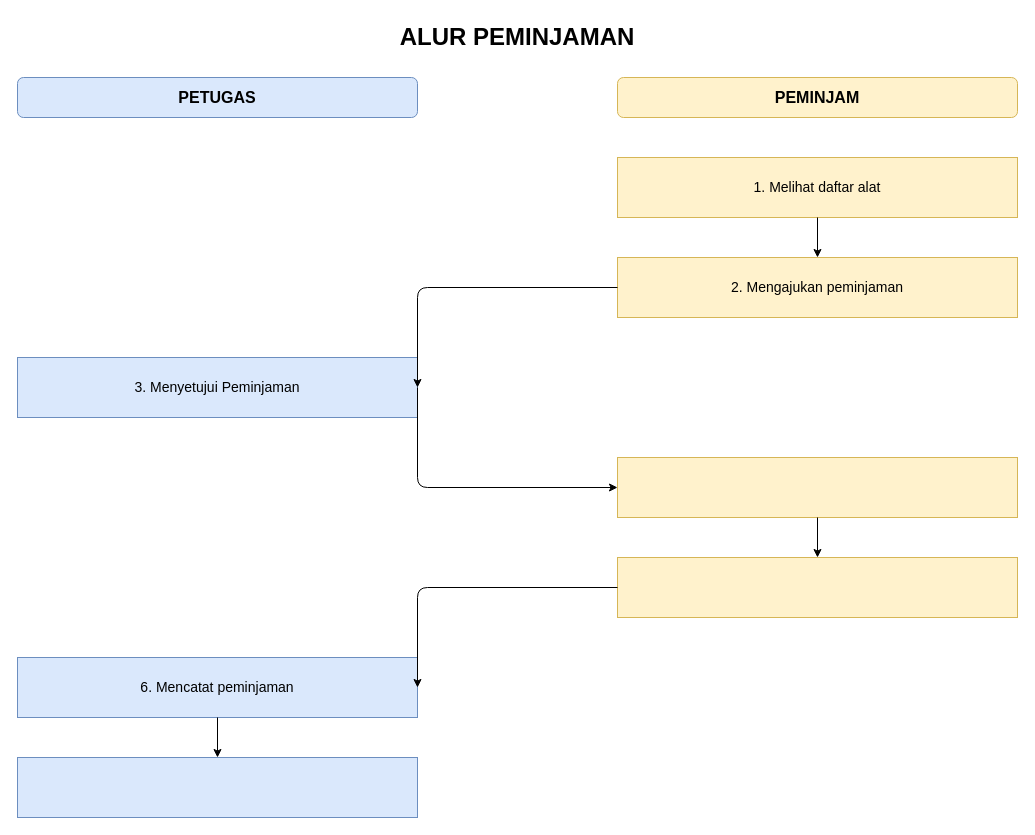
Some shapes in this 1035 by 835 pixel diagram are drawn without their labels. The shapes that lost their labels are listed below. From the top down, each one's centre as x and y in pixels, then its label:
At [817,487]: "4. Datang membawa invoice / bukti pengajuan peminjaman".
At [817,587]: "5. Offline mengambil alat".
At [217,787]: "7. Cetak bukti".
